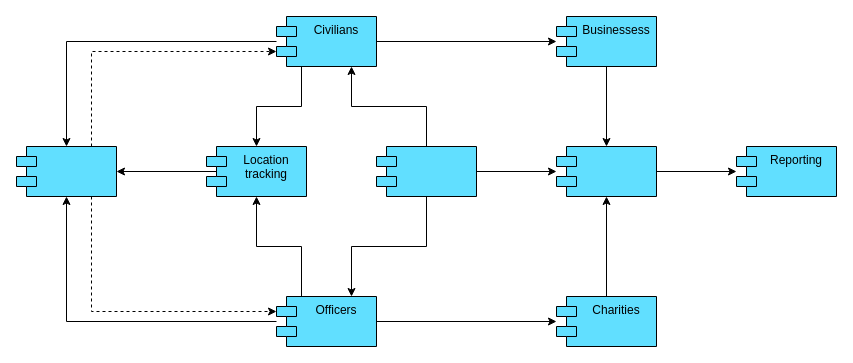
Some shapes in this 853 by 363 pixel diagram are drawn without their labels. Here are the shapes that lost their labels. From the top down, the centre of each, then its label:
point (66, 171): Notifications
point (426, 171): Interactions
point (606, 171): Points
